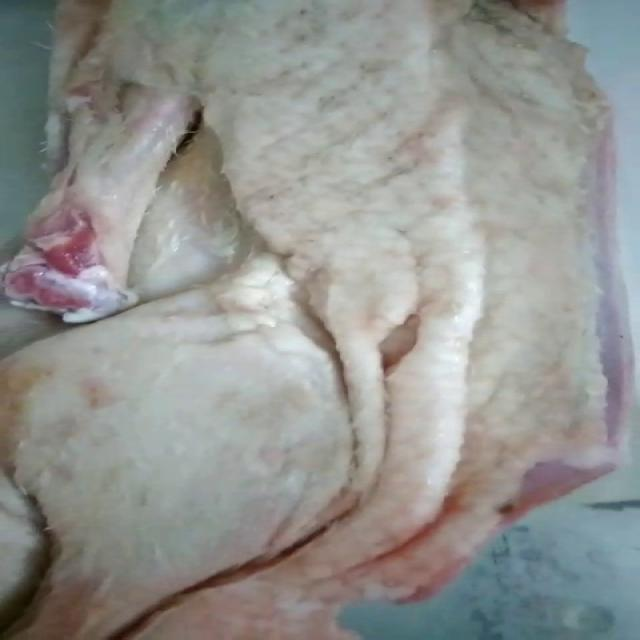chicken: (1, 0, 632, 638)
